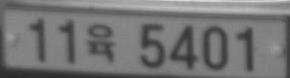0: (204, 25, 228, 69)
1: (235, 27, 256, 71), (58, 19, 78, 62), (28, 16, 47, 61)
4: (170, 25, 197, 69)
5: (141, 23, 164, 68)
육: (86, 23, 115, 62)
